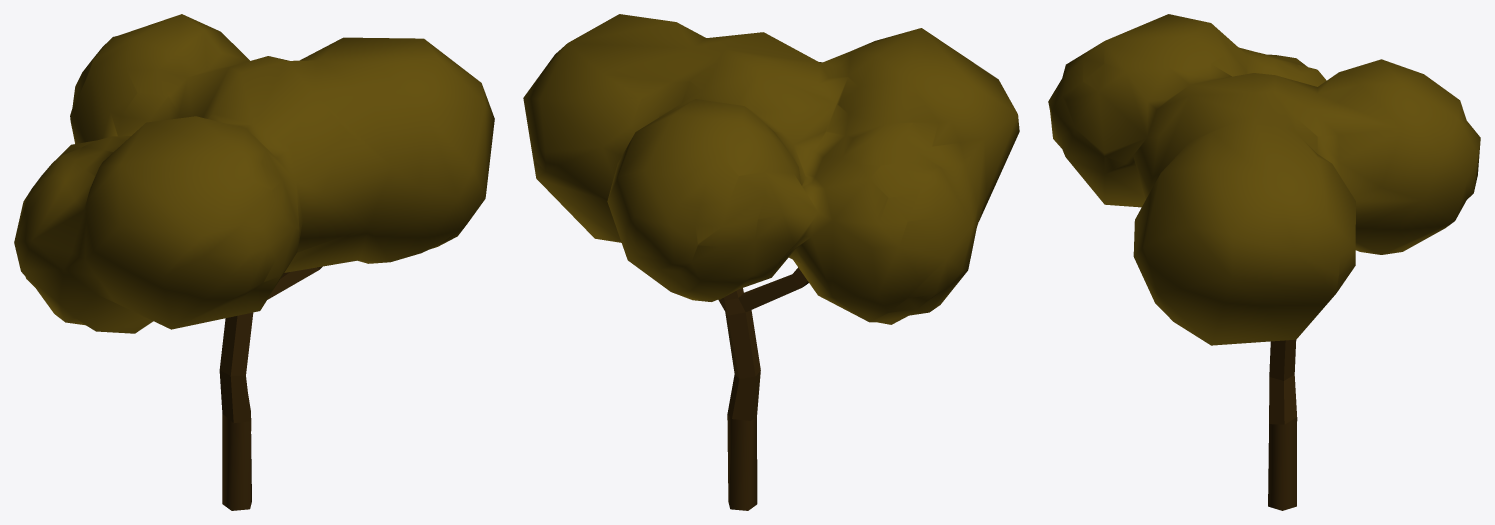
Rendered from Tree02.FBX.
The picture shows the model from 3 angles, left to right: view 1: azimuth 30°, elevation 25°; view 2: azimuth 150°, elevation 25°; view 3: azimuth 270°, elevation 25°; orthographic projection. The views are drawn at different scales.
Parts seen in each view (by area): view 1: Leaves, Trunk; view 2: Leaves, Trunk; view 3: Leaves, Trunk.
Part boxes in pixels (x1,y1,x2,y2): Leaves: (14,14,494,333); Trunk: (219,266,322,510); Leaves: (523,14,1019,324); Trunk: (718,267,808,510); Leaves: (1048,14,1480,345); Trunk: (1268,339,1297,510).
Size of the model in its own units: 6.77 by 6.4 by 5.88.
